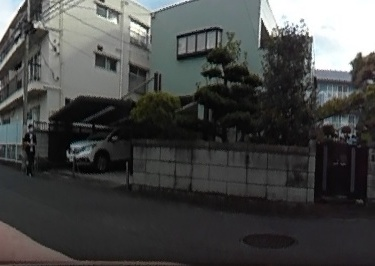person: (23, 123, 36, 177)
